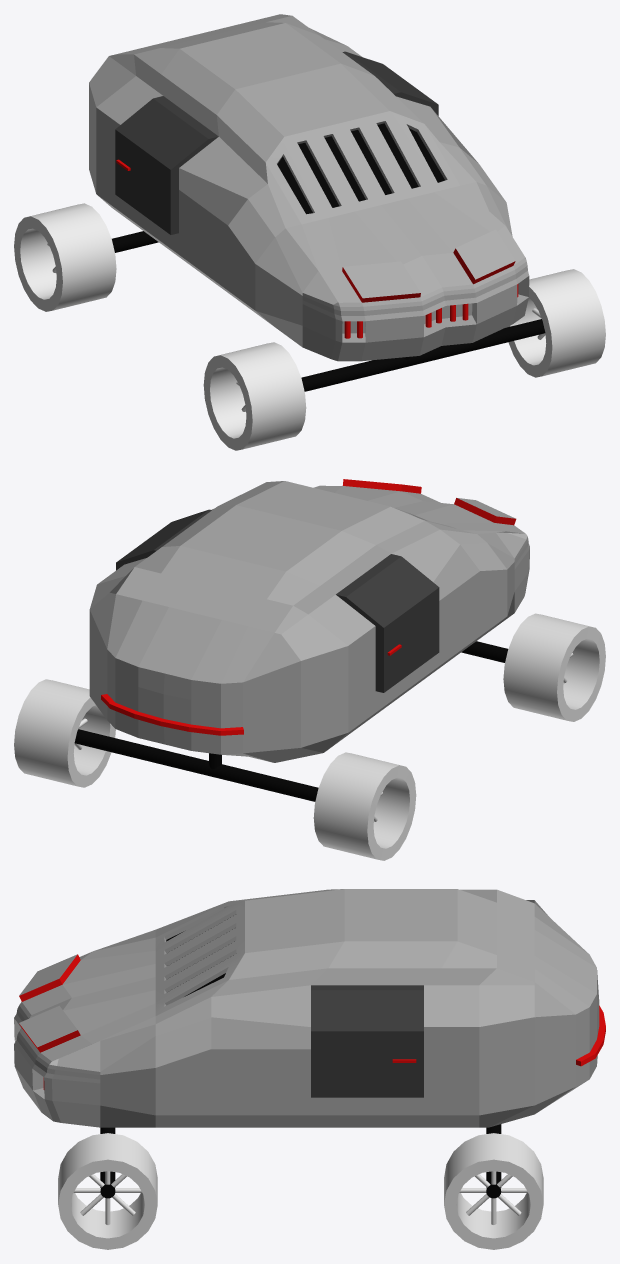
The model's file is SardinillaModel.fbx.
3 views of the same model, one above another, from view 1: azimuth 30°, elevation 25°; view 2: azimuth 150°, elevation 25°; view 3: azimuth 270°, elevation 25° (orthographic).
Parts seen in each view (by area): view 1: pCylinder37, pPipe5, pCylinder34, pCylinder35; view 2: pCylinder37, pCylinder34, pPipe5, pCylinder36; view 3: pCylinder37, pCylinder36, pCylinder35.
Part boxes in pixels (x1=…): pCylinder37: x1=89, y1=14, x2=545, y2=391; pPipe5: x1=14, y1=203, x2=116, y2=311; pCylinder34: x1=203, y1=342, x2=306, y2=450; pCylinder35: x1=506, y1=269, x2=605, y2=377; pCylinder37: x1=74, y1=479, x2=529, y2=801; pCylinder34: x1=503, y1=613, x2=605, y2=721; pPipe5: x1=313, y1=752, x2=416, y2=860; pCylinder36: x1=14, y1=679, x2=115, y2=787; pCylinder37: x1=14, y1=889, x2=605, y2=1198; pCylinder36: x1=444, y1=1133, x2=543, y2=1249; pCylinder35: x1=58, y1=1133, x2=157, y2=1249.
Bounding box in the file's own units: 16.5 × 10.84 × 23.55.
